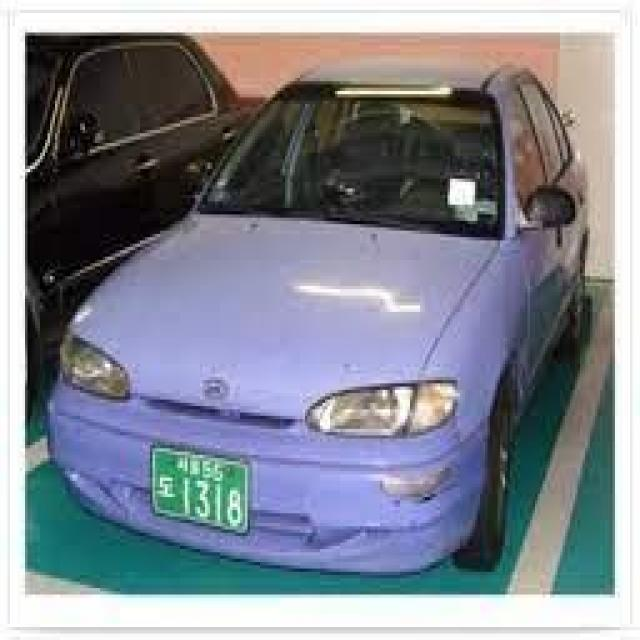car: (43, 54, 590, 580)
illegal_plate: (149, 441, 255, 541)
